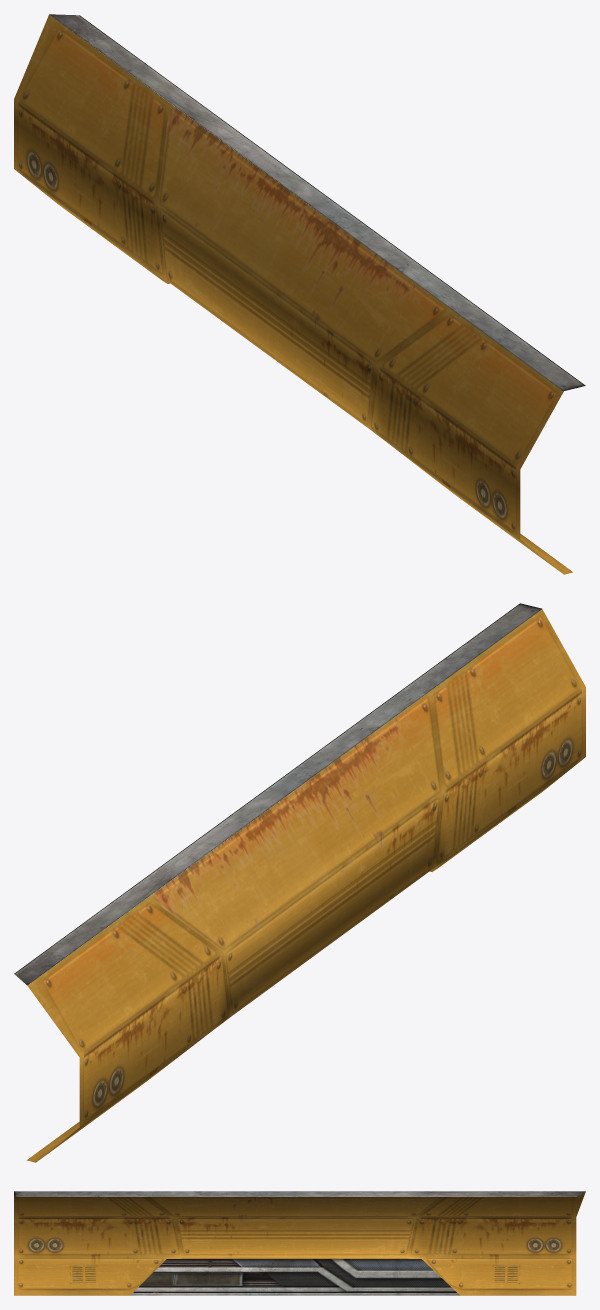
The model's file is ARC_Wall_UpperA_Right.FBX.
The picture shows the model from 3 angles, top to bottom: view 1: azimuth 30°, elevation 25°; view 2: azimuth 150°, elevation 25°; view 3: azimuth 270°, elevation 25°; orthographic projection. The views are drawn at different scales.
Parts seen in each view (by area): view 1: ARC_Wall_UpperA_Right; view 2: ARC_Wall_UpperA_Right; view 3: ARC_Wall_UpperA_Right.
Boxes of the visible parts, left/top/right/bottom form: ARC_Wall_UpperA_Right: left=14, top=14, right=585, bottom=574; ARC_Wall_UpperA_Right: left=14, top=603, right=585, bottom=1162; ARC_Wall_UpperA_Right: left=14, top=1191, right=585, bottom=1295.
Size of the model in its own units: 37.5 by 100 by 509.
1 material, 1 textured.
